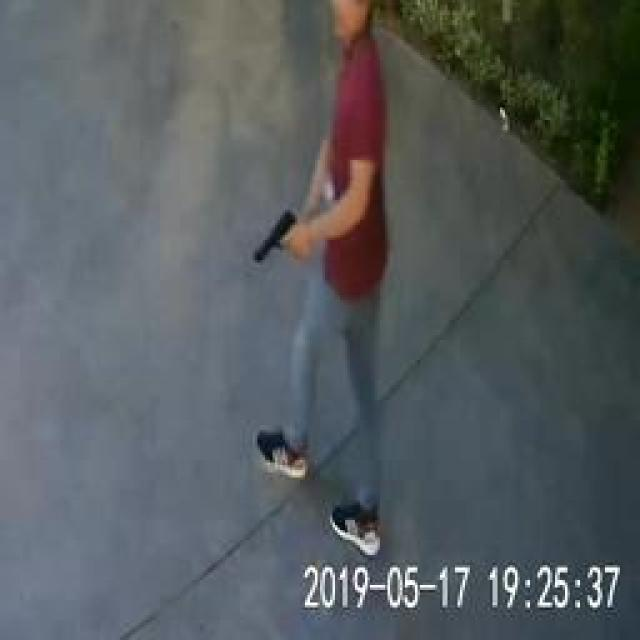Guns: (240, 194, 298, 285)
